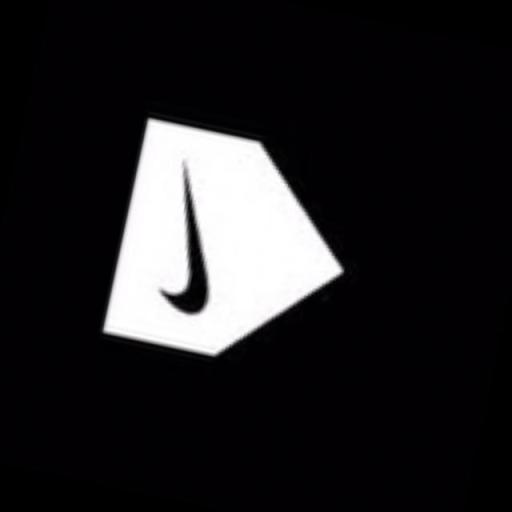Nike: (140, 145, 255, 331)
